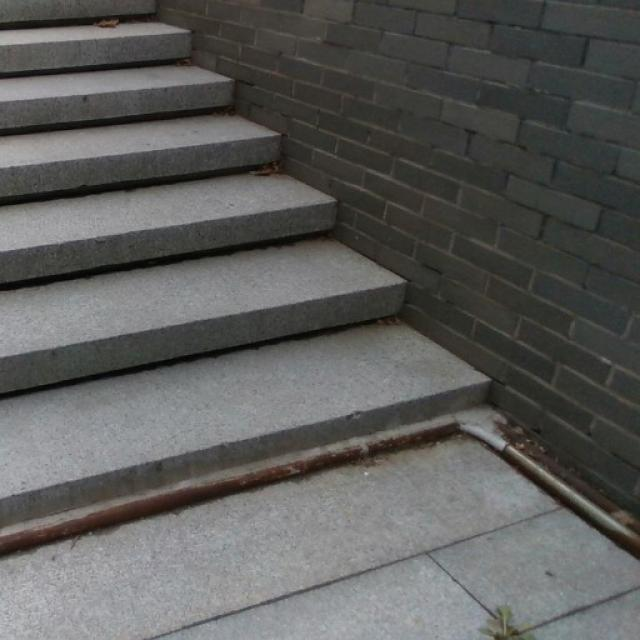Stairs: (0, 0, 495, 555)
